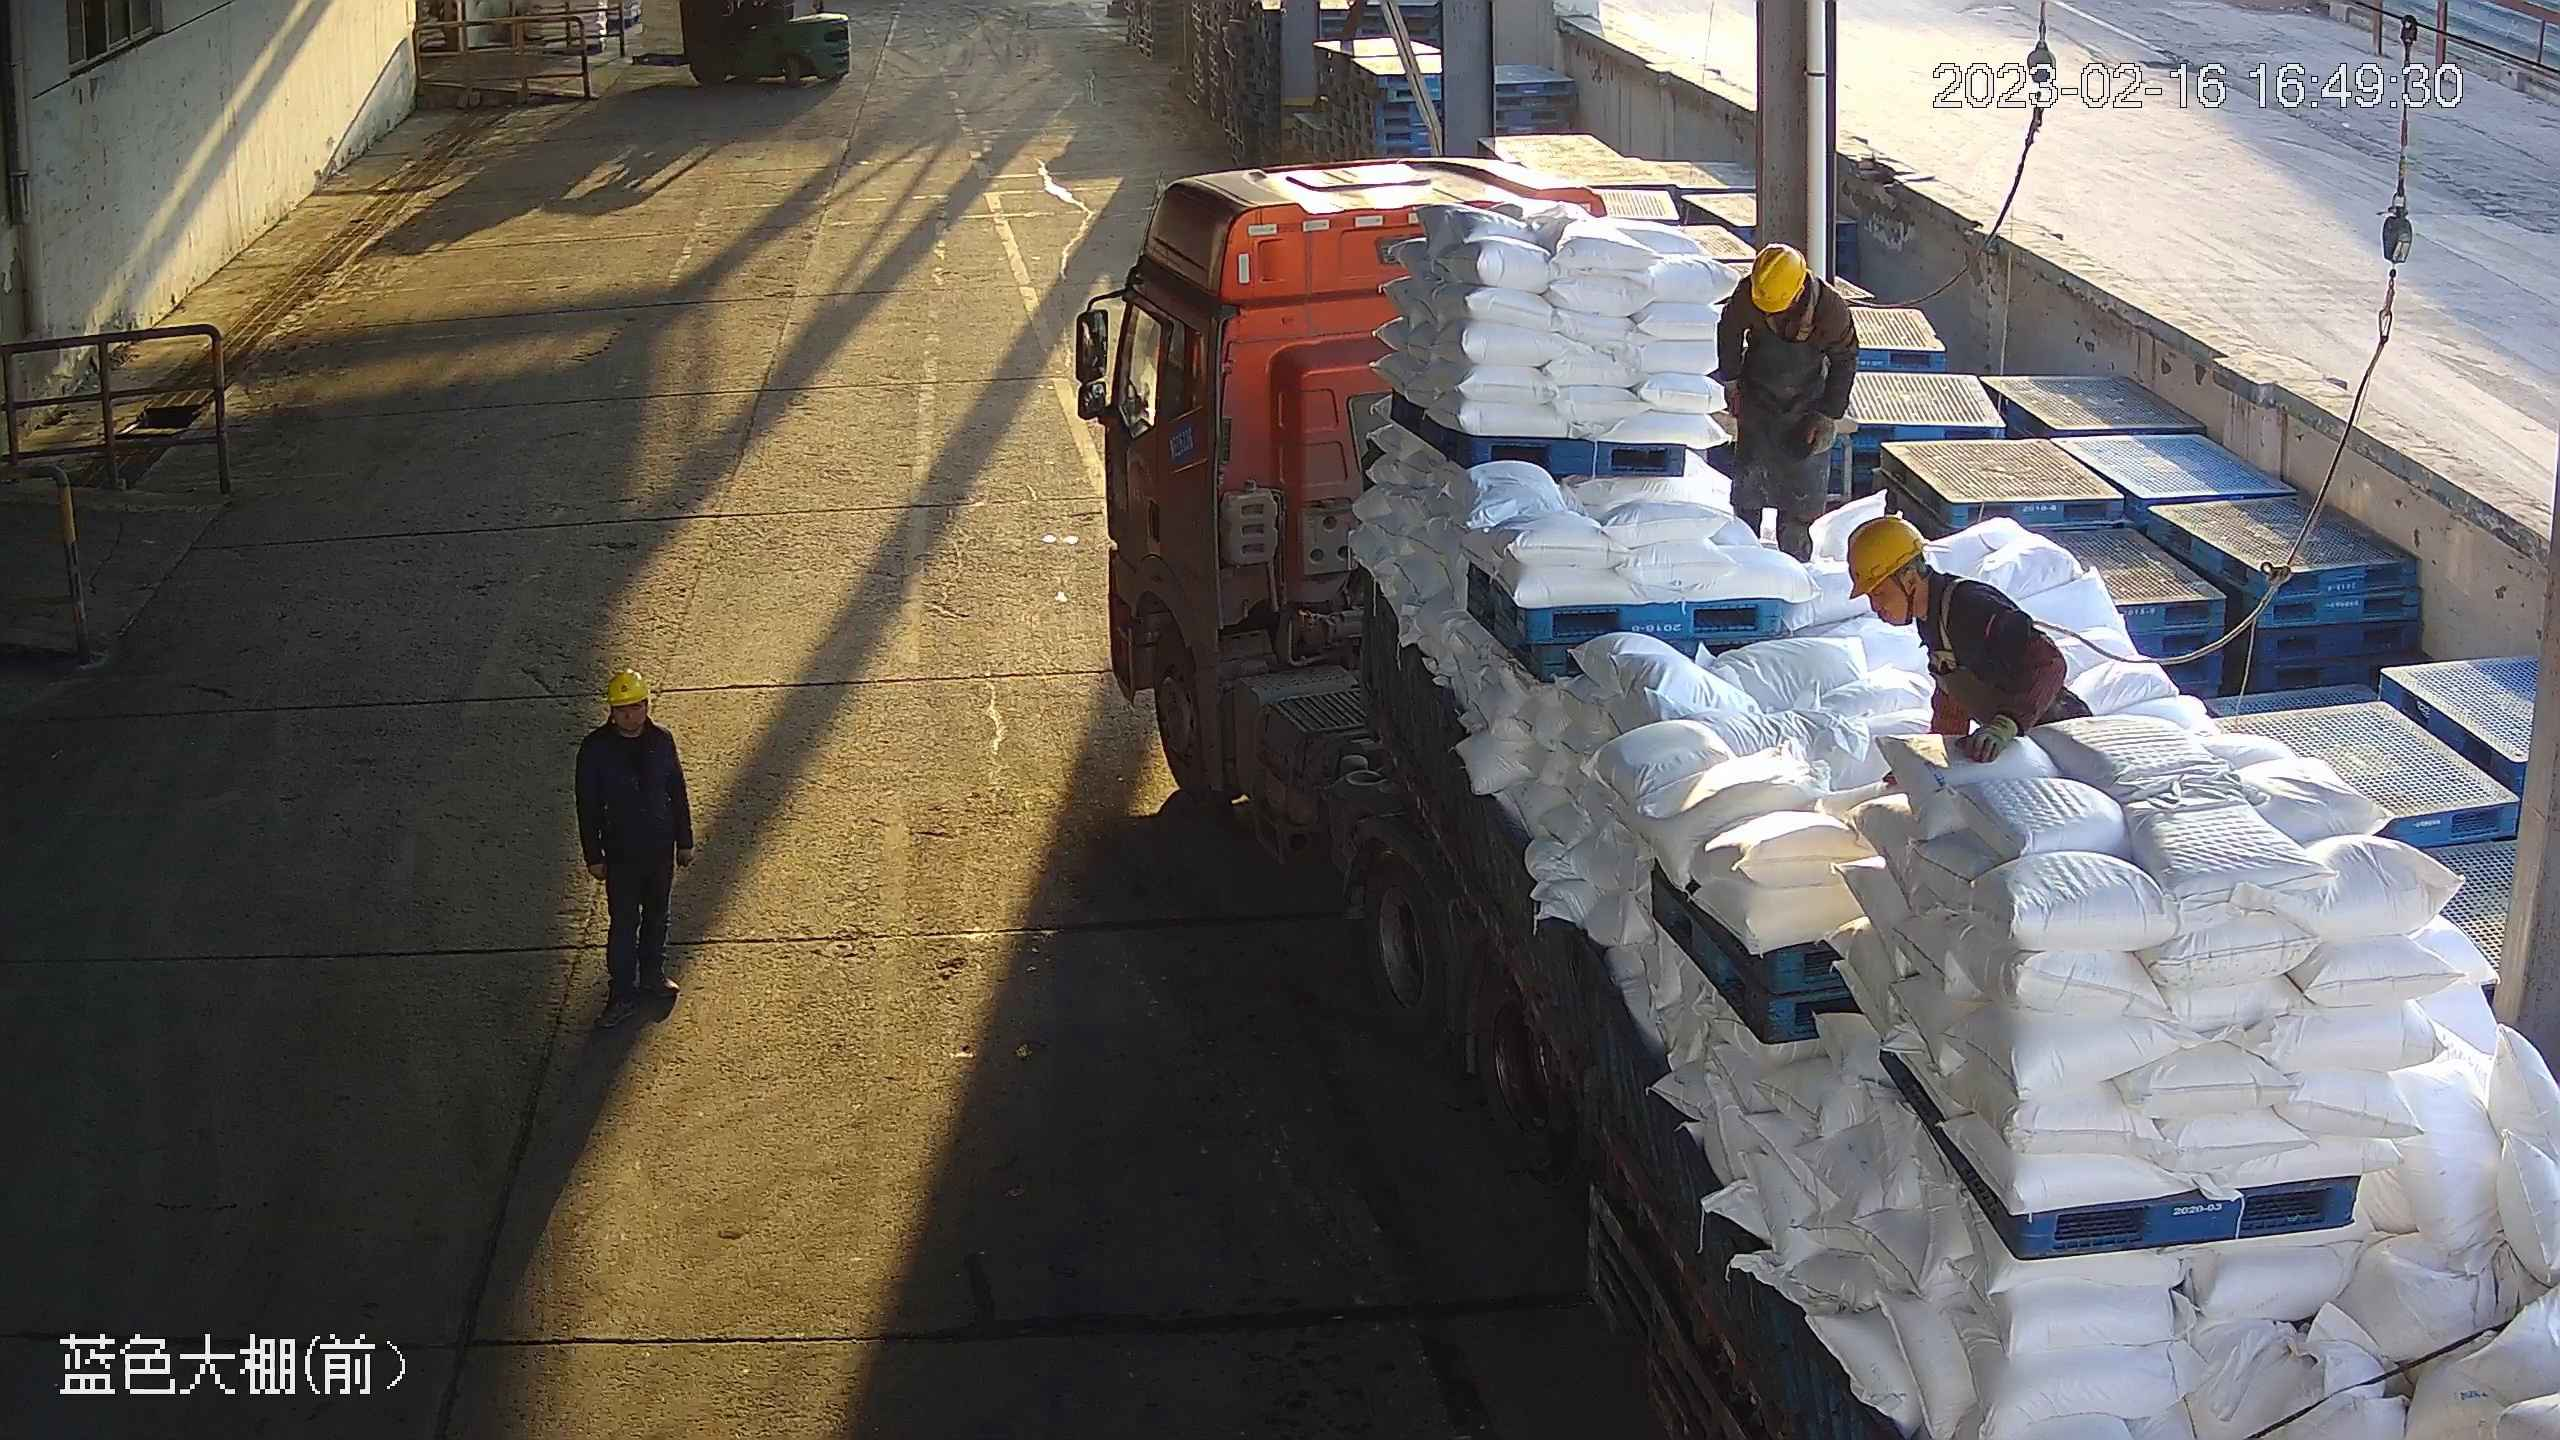belt: (1918, 579, 1985, 671), (1762, 269, 1822, 342)
head: (1845, 512, 2012, 650), (1718, 243, 1847, 334), (574, 672, 677, 767)
helmet: (1846, 513, 1927, 600), (1749, 241, 1806, 313), (607, 669, 646, 705)
people: (1845, 514, 2095, 786), (1705, 241, 1860, 564), (574, 671, 696, 1028)
truck: (1072, 153, 2560, 1440)
